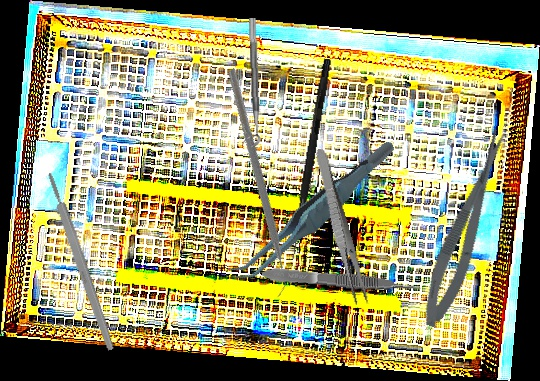Chopper: (136, 68, 371, 302)
Dressing Forceps: (309, 147, 371, 308)
Fixation Ring: (237, 17, 262, 148)
Hook Surgical: (289, 57, 332, 261)
Micro Scissor: (413, 126, 520, 332)
Scalpel Handle: (44, 171, 117, 352)
Tissue Forceps: (208, 138, 418, 288), (261, 264, 422, 298)
